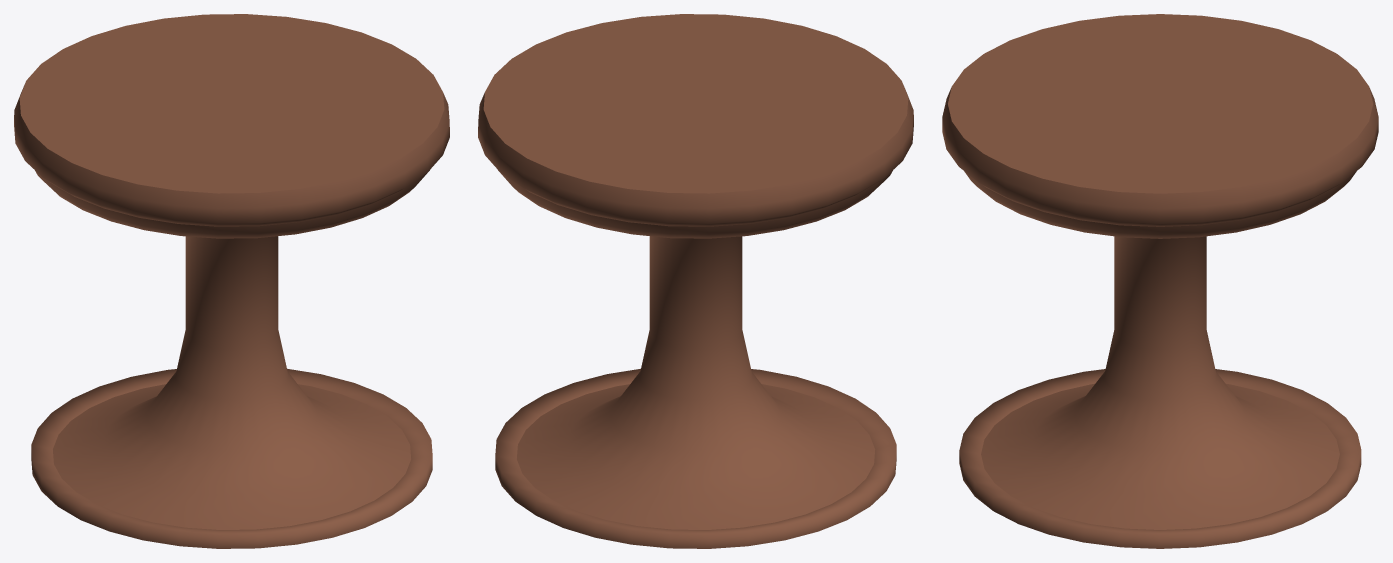
Rendered from SM_BoxTable.fbx.
3 views of the same model, side by side, from view 1: azimuth 30°, elevation 25°; view 2: azimuth 150°, elevation 25°; view 3: azimuth 270°, elevation 25° (orthographic).
Visible parts, largest first — view 1: BoxTable; view 2: BoxTable; view 3: BoxTable.
Boxes of the visible parts, x1=… form: BoxTable: x1=14, y1=14, x2=449, y2=548; BoxTable: x1=478, y1=14, x2=913, y2=548; BoxTable: x1=942, y1=14, x2=1378, y2=548.
Bounding box in the file's own units: 103 × 93.55 × 103.
